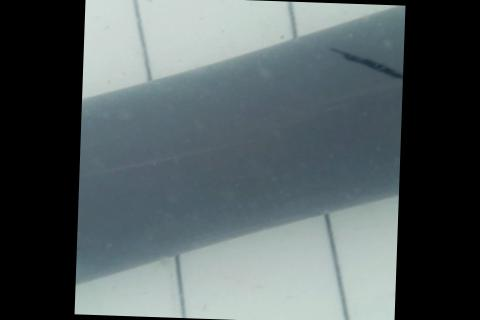keretakan: (324, 44, 404, 82)
